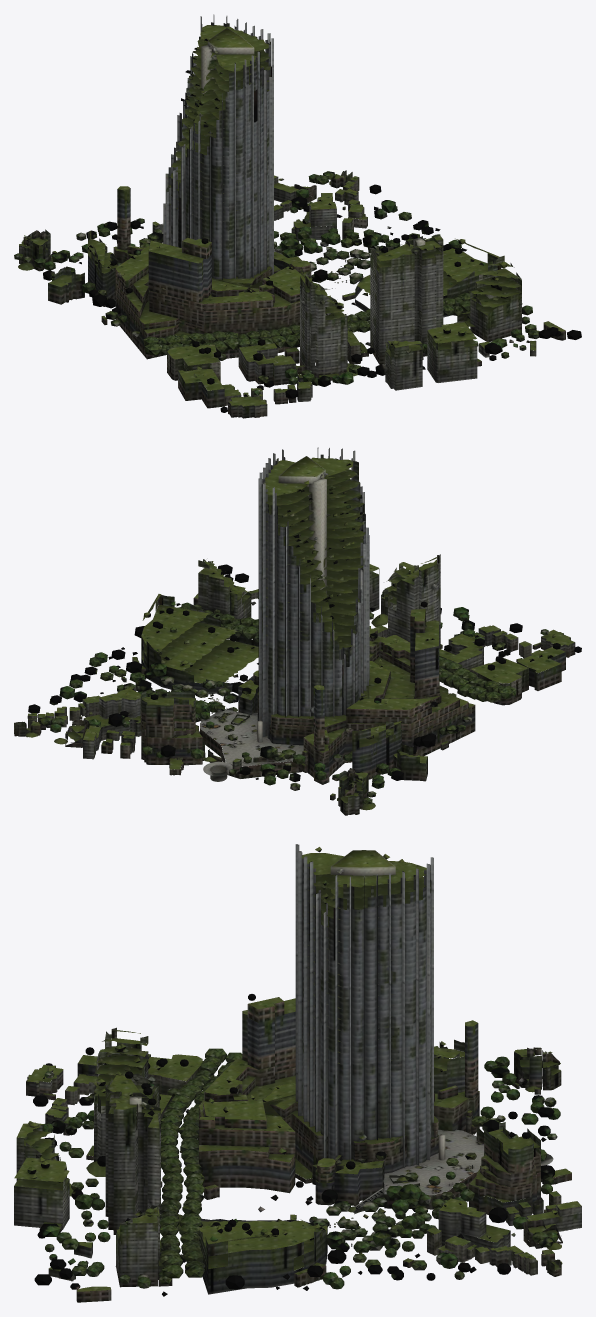
The model's file is far.glb.
3 renders of one model, top to bottom at view 1: azimuth 30°, elevation 25°; view 2: azimuth 150°, elevation 25°; view 3: azimuth 270°, elevation 25°, orthographic. The views are drawn at different scales.
Parts seen in each view (by area): view 1: far; view 2: far; view 3: far.
Boxes of the visible parts, left/top/right/bottom form: far: left=14, top=14, right=581, bottom=418; far: left=14, top=447, right=581, bottom=815; far: left=14, top=844, right=581, bottom=1302.
Size of the model in its own units: 377 by 260 by 419.
1 material, 1 textured.
